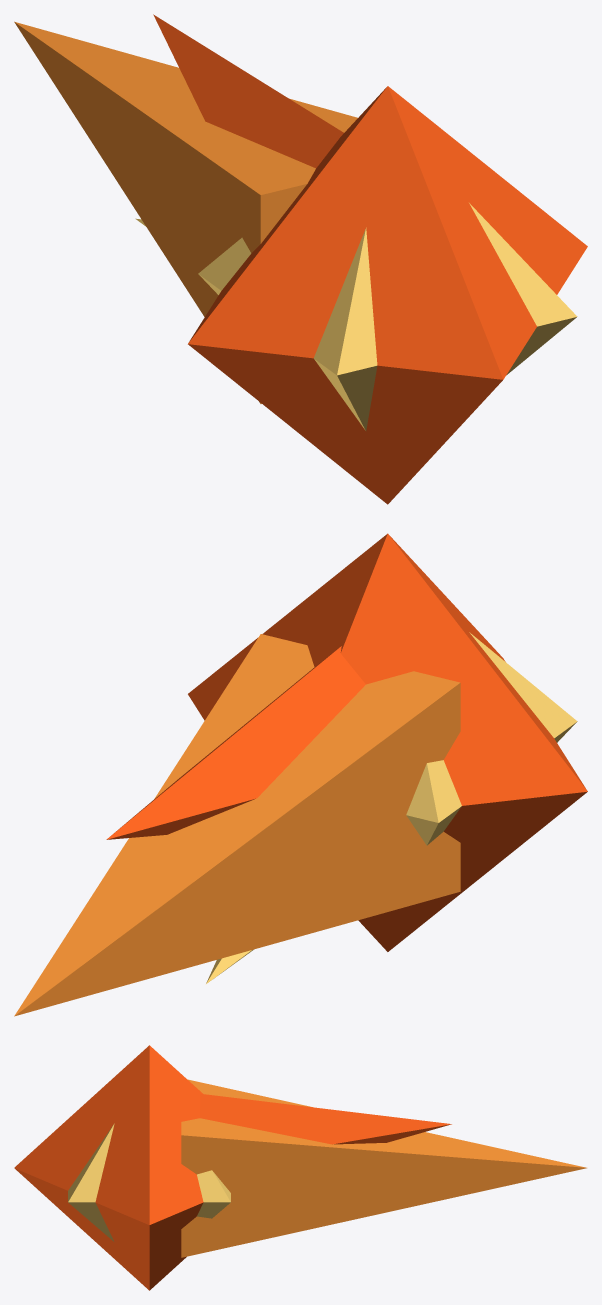
The model's file is pyro_bolt.glb.
3 renders of one model, top to bottom at view 1: azimuth 30°, elevation 25°; view 2: azimuth 150°, elevation 25°; view 3: azimuth 270°, elevation 25°, orthographic. The views are drawn at different scales.
Parts seen in each view (by area): view 1: pyro_bolt; view 2: pyro_bolt; view 3: pyro_bolt.
Part boxes in pixels (box(x1,y1,x2,y2)): pyro_bolt: box(14, 14, 587, 504); pyro_bolt: box(14, 533, 587, 1016); pyro_bolt: box(14, 1045, 586, 1290).
Bounding box in the file's own units: 0.34 × 0.34 × 0.72.
1 material, 1 textured.
